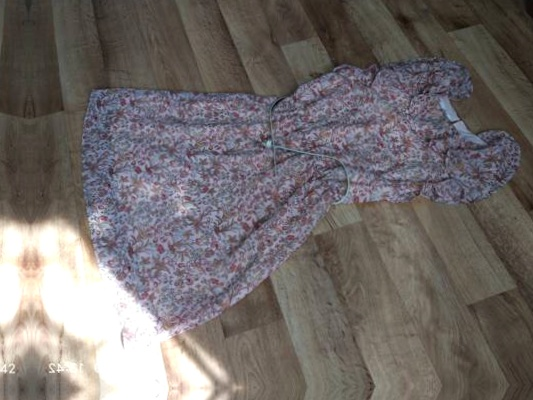Dress: (79, 46, 522, 368)
